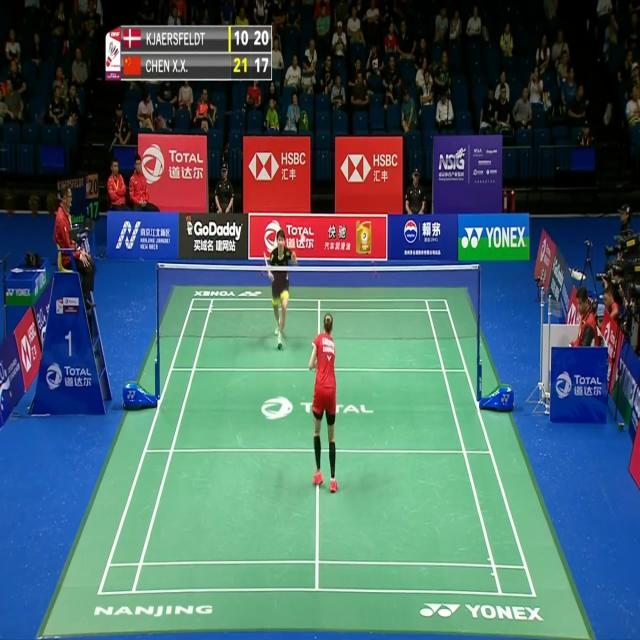Player1: (308, 312, 342, 494)
Player2: (264, 230, 298, 352)
